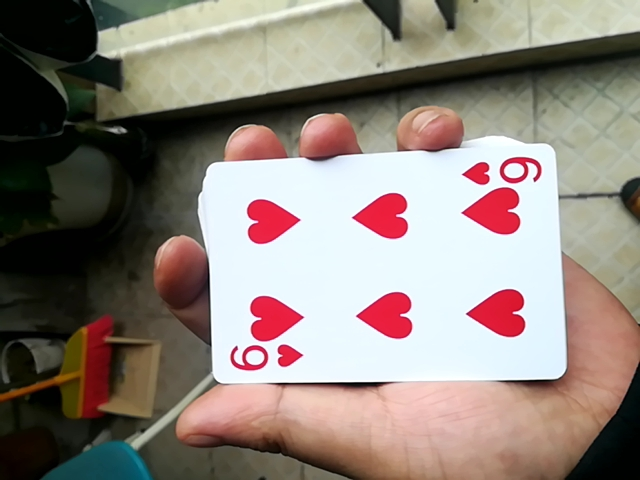hx 6: (184, 134, 563, 390)
